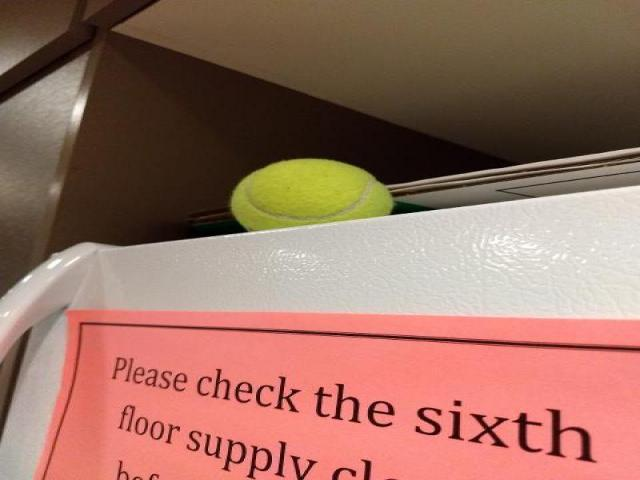tennis-ball: (227, 158, 392, 233)
